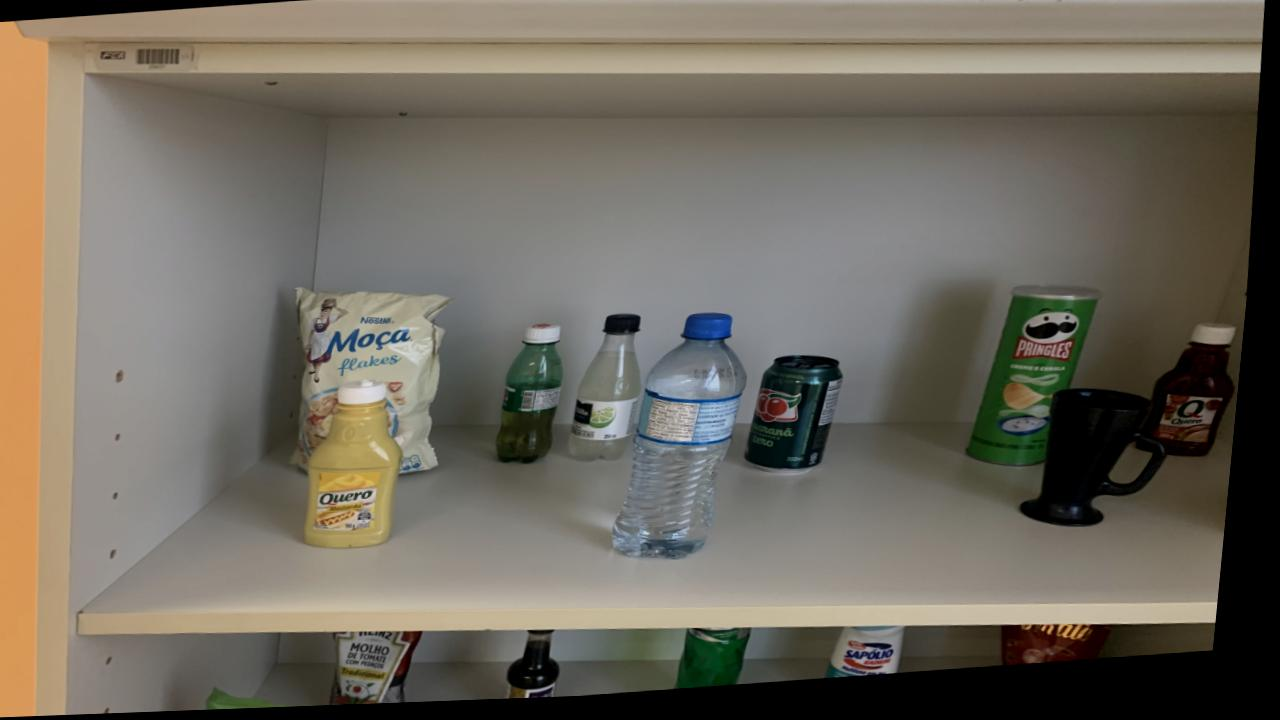Cleaner-Cleanup_Items: (841, 633, 918, 685)
Detergent-Cleanup_Items: (691, 634, 766, 695)
English_Sauce-Pantry_Items: (521, 634, 574, 703)
Flakes-Snacks: (300, 290, 459, 477)
Guarana-Drinks: (506, 330, 572, 468)
Guarana_Can-Drinks: (755, 362, 851, 480)
Ketchup-Pantry_Items: (1153, 333, 1243, 466)
Mustard-Pantry_Items: (315, 382, 413, 551)
Pringles-Snacks: (975, 293, 1107, 474)
Soda-Drinks: (578, 319, 649, 466)
Tomato_Sauce-Pantry_Items: (345, 634, 433, 708), (1015, 632, 1125, 674), (220, 691, 309, 712)
Water_Bottle-Drinks: (624, 321, 756, 565)
